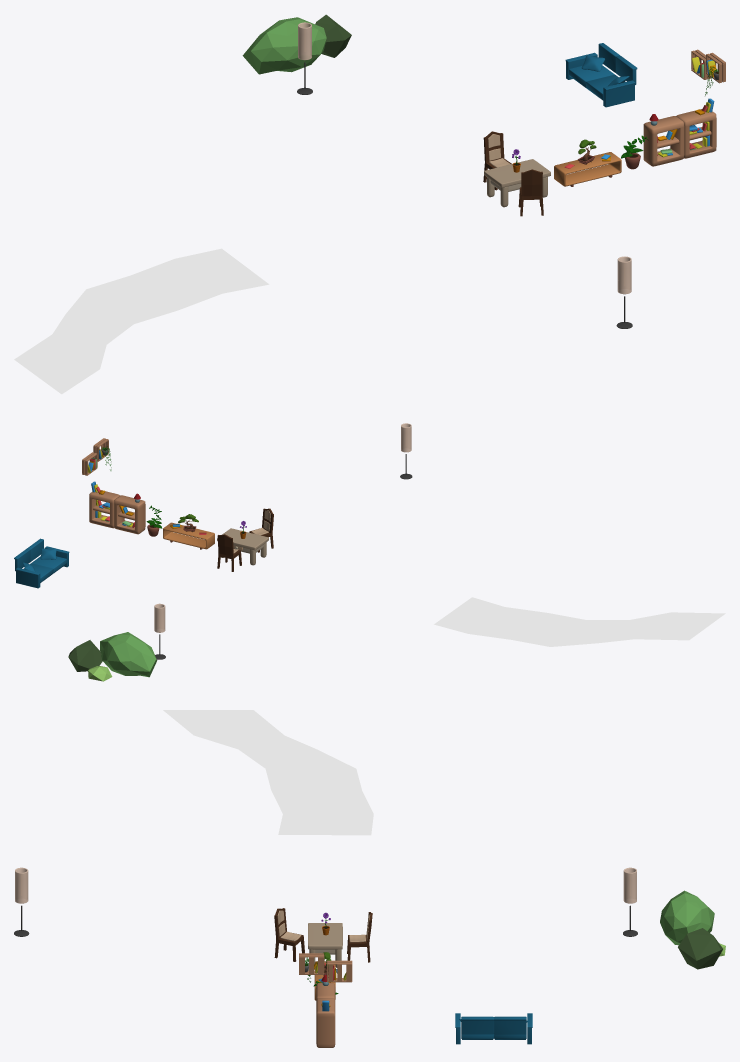
File: dTShape Sampleroom - Deko.glb
The picture shows the model from 3 angles, top to bottom: view 1: azimuth 30°, elevation 25°; view 2: azimuth 150°, elevation 25°; view 3: azimuth 270°, elevation 25°; orthographic projection. The views are drawn at different scales.
Visible parts, largest first — view 1: T-Room Suburb; view 2: T-Room Suburb; view 3: T-Room Suburb.
Part boxes in pixels (x1,y1,x2,y2): T-Room Suburb: (14,14,725,394); T-Room Suburb: (14,423,725,681); T-Room Suburb: (14,710,725,1047).
Bounding box in the file's own units: 20.22 × 2.65 × 17.78.
Materials: 7 (2 with a texture image).
